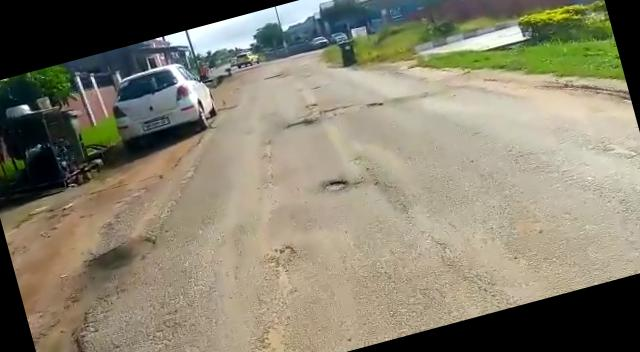pothole: (320, 172, 357, 196)
